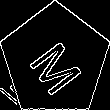M_NE: (22, 27, 88, 94)
